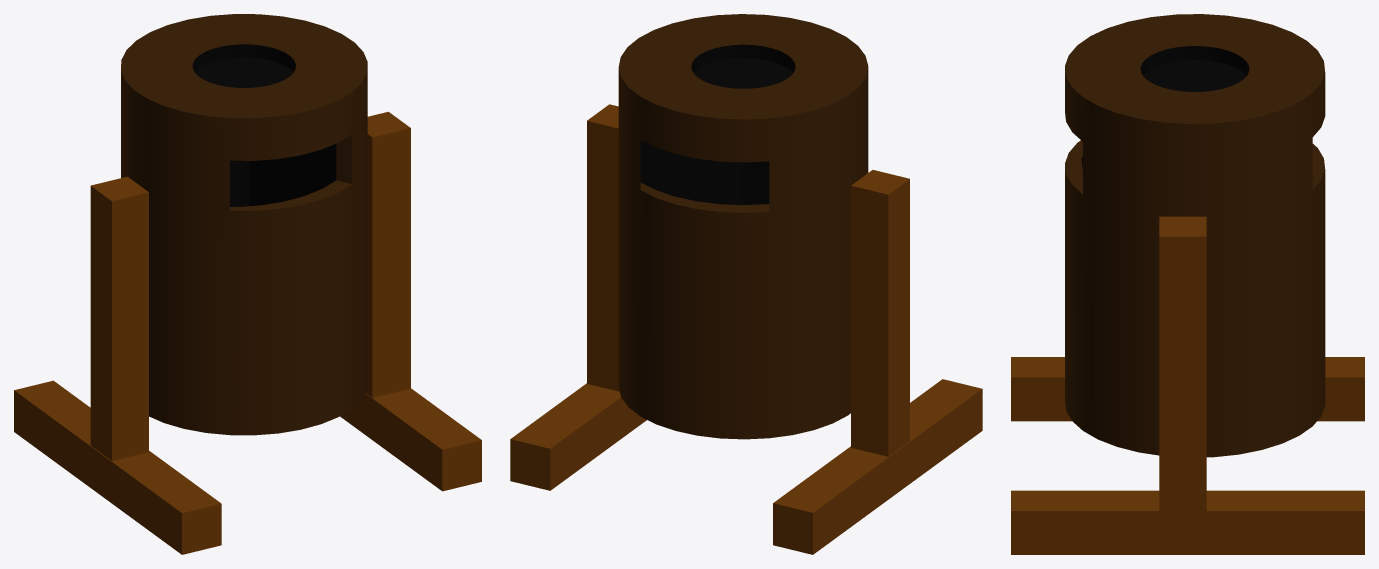
The model's file is Trash.fbx.
The picture shows the model from 3 angles, left to right: view 1: azimuth 30°, elevation 25°; view 2: azimuth 150°, elevation 25°; view 3: azimuth 270°, elevation 25°; orthographic projection. The views are drawn at different scales.
Visible parts, largest first — view 1: Trash; view 2: Trash; view 3: Trash.
Part boxes in pixels (x1,y1,x2,y2): Trash: (14, 14, 481, 554); Trash: (510, 14, 982, 554); Trash: (1011, 14, 1364, 554).
Bounding box in the file's own units: 32.77 × 40.56 × 31.82.
